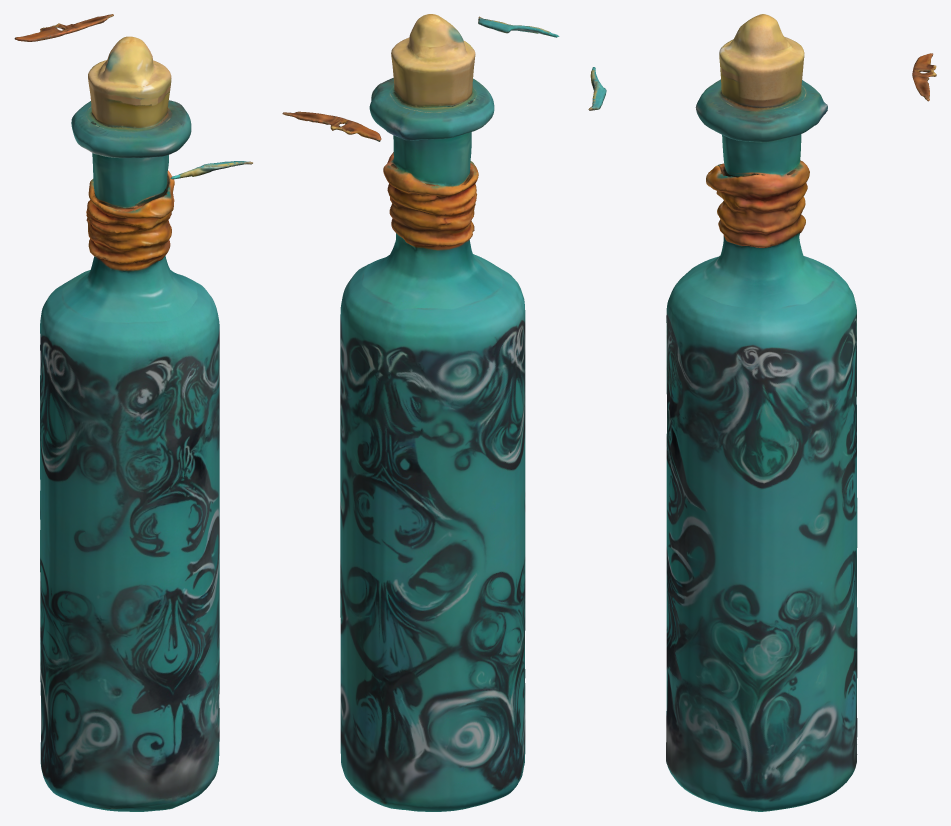
Rendered from Meshy_AI_a_bottle_for_potions__1115233106_texture.glb.
The picture shows the model from 3 angles, left to right: view 1: azimuth 30°, elevation 25°; view 2: azimuth 150°, elevation 25°; view 3: azimuth 270°, elevation 25°; orthographic projection. The views are drawn at different scales.
Size of the model in its own units: 0.4525 by 1.99 by 0.8242.
1 material, 1 textured.
